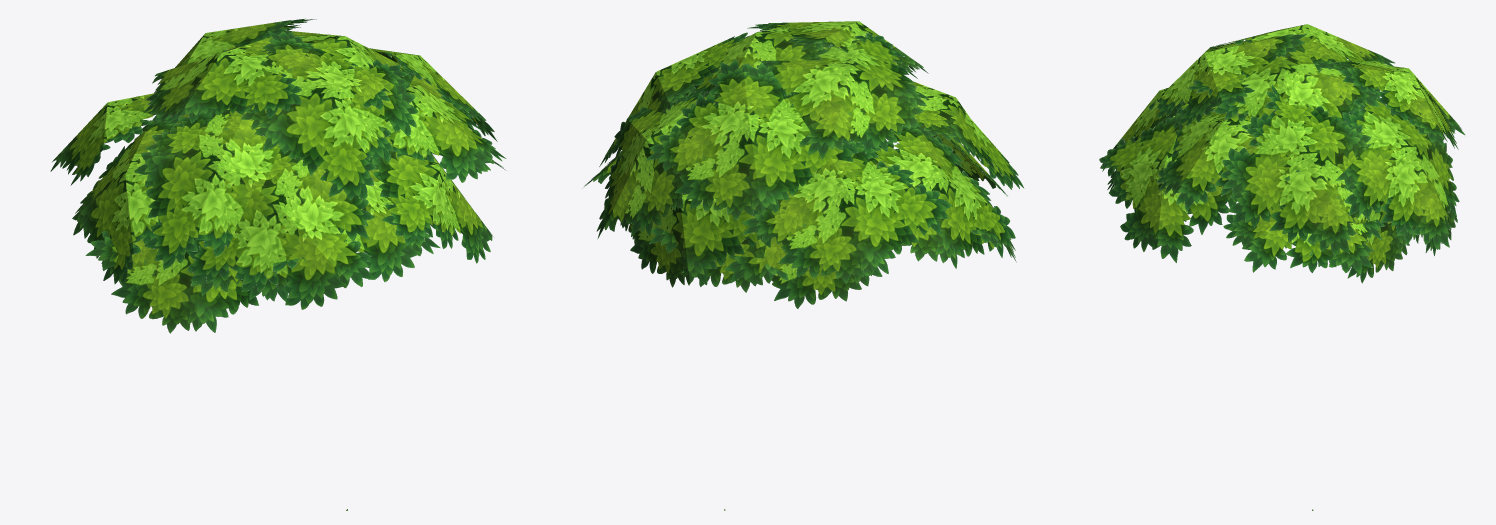
3 renders of one model, left to right at view 1: azimuth 30°, elevation 25°; view 2: azimuth 150°, elevation 25°; view 3: azimuth 270°, elevation 25°, orthographic. The views are drawn at different scales.
Visible parts, largest first — view 1: Plane.011; view 2: Plane.011; view 3: Plane.011.
Part boxes in pixels (bbox=[...]): Plane.011: bbox=[50, 18, 506, 510]; Plane.011: bbox=[582, 21, 1024, 510]; Plane.011: bbox=[1099, 24, 1465, 510].
Bounding box in the file's own units: 63265 × 72273 × 60183.
Materials: 1 (1 with a texture image).
